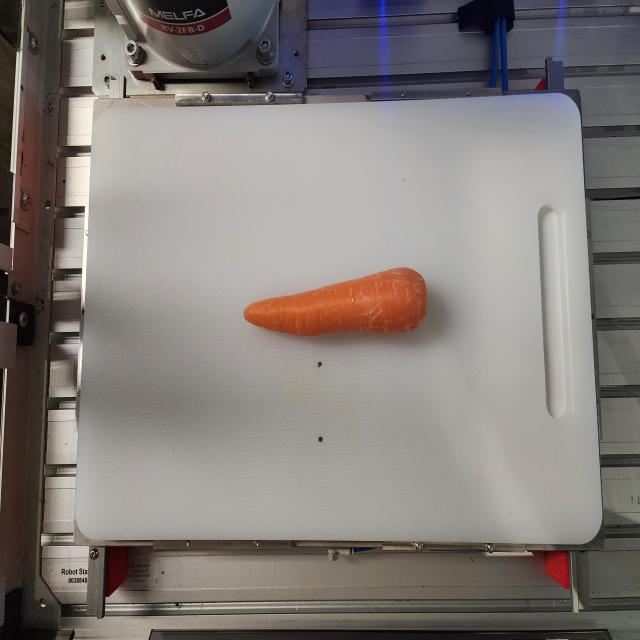carrot: (243, 266, 428, 336)
